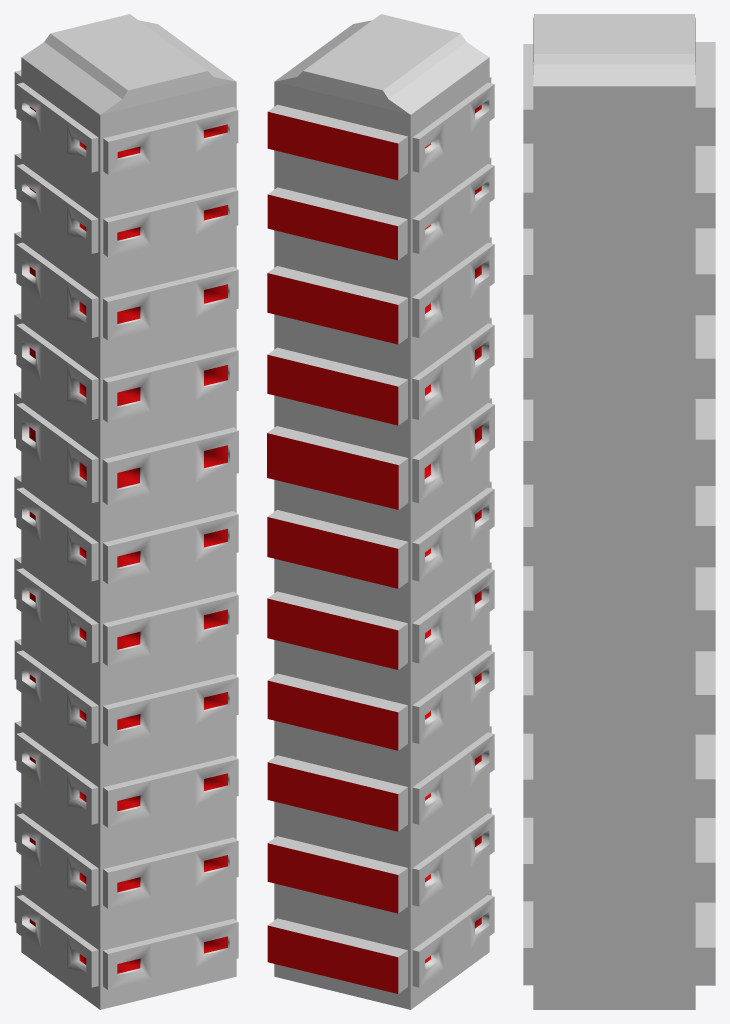
File: building_cube_005_1.fbx
The picture shows the model from 3 angles, left to right: view 1: azimuth 30°, elevation 25°; view 2: azimuth 150°, elevation 25°; view 3: azimuth 270°, elevation 25°; orthographic projection. The views are drawn at different scales.
Parts seen in each view (by area): view 1: Cube.058; view 2: Cube.058; view 3: Cube.058.
Part boxes in pixels (x1=…): Cube.058: x1=14, y1=14, x2=238, y2=1009; Cube.058: x1=267, y1=14, x2=494, y2=1009; Cube.058: x1=523, y1=14, x2=715, y2=1009.
Bounding box in the file's own units: 643 × 3919 × 727.
